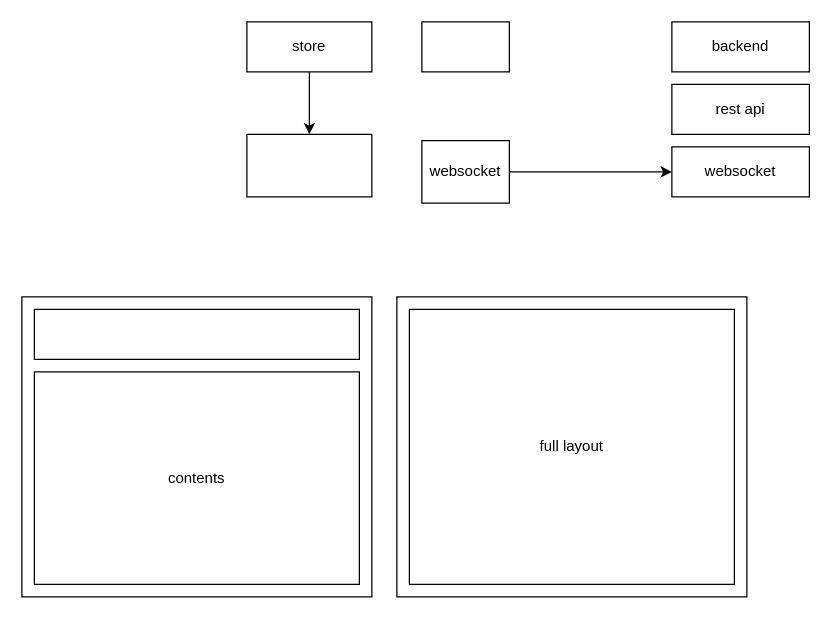
This 831x619 diagram has some shape labels left out. The centre of each missing label's shape, as x and y in pixels:
"axios" goes at pixel 465 46.
"header" goes at pixel 196 333.
"ViewConponents" goes at pixel 309 165.
